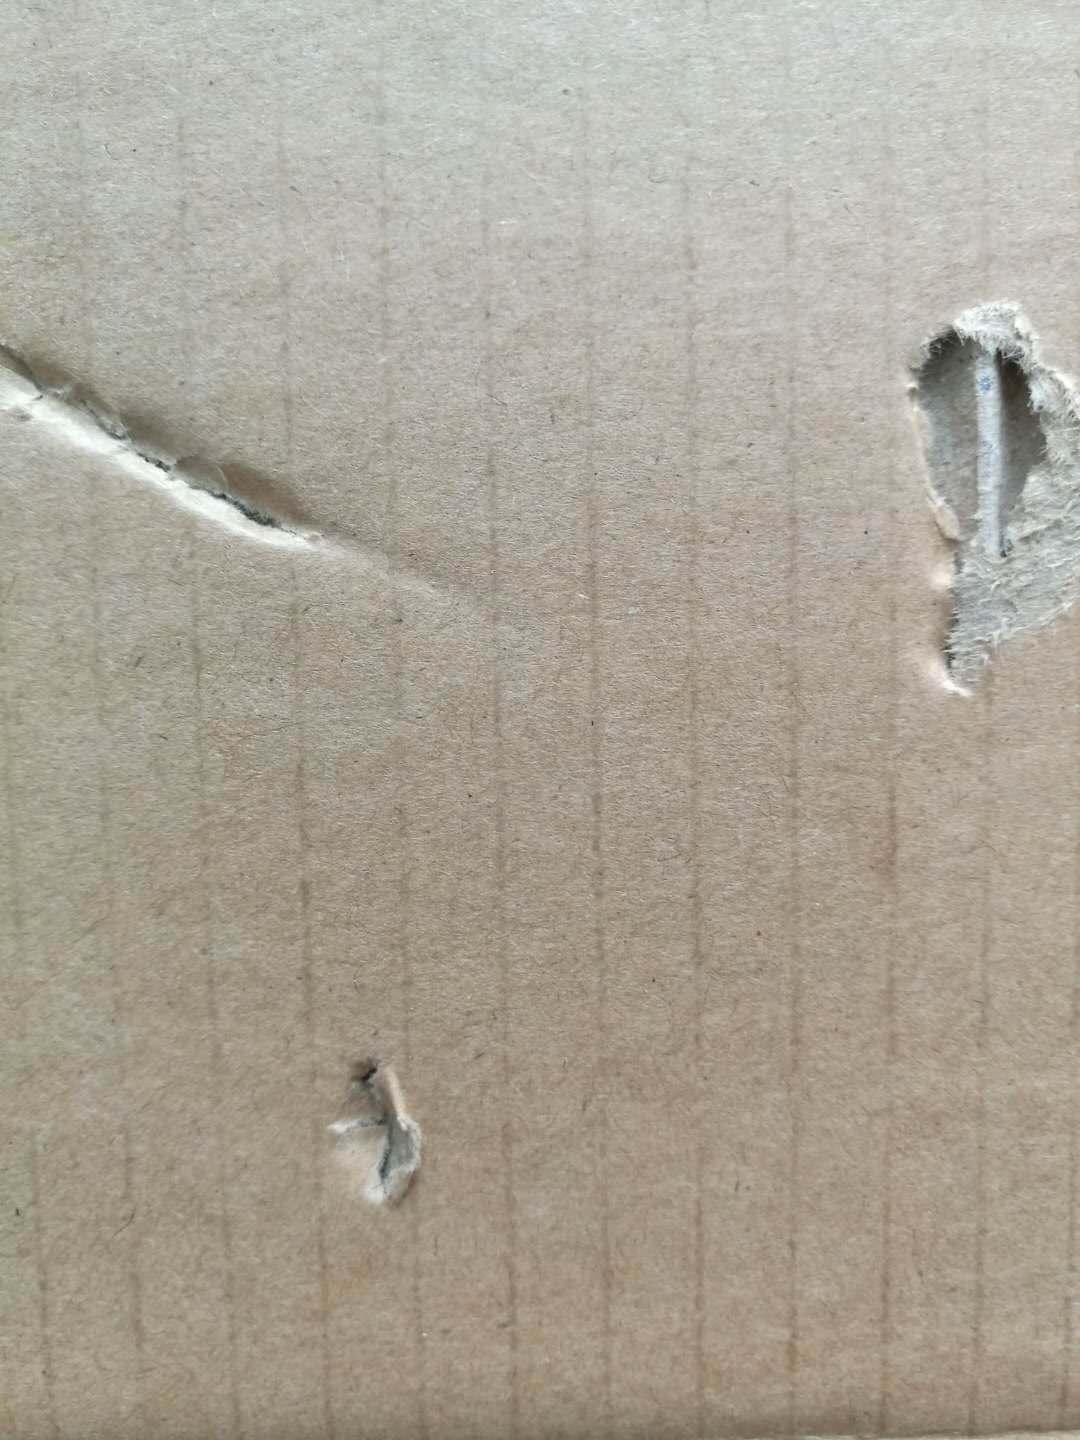defect: (3, 296, 515, 655), (862, 262, 1080, 742), (312, 1032, 446, 1236)
